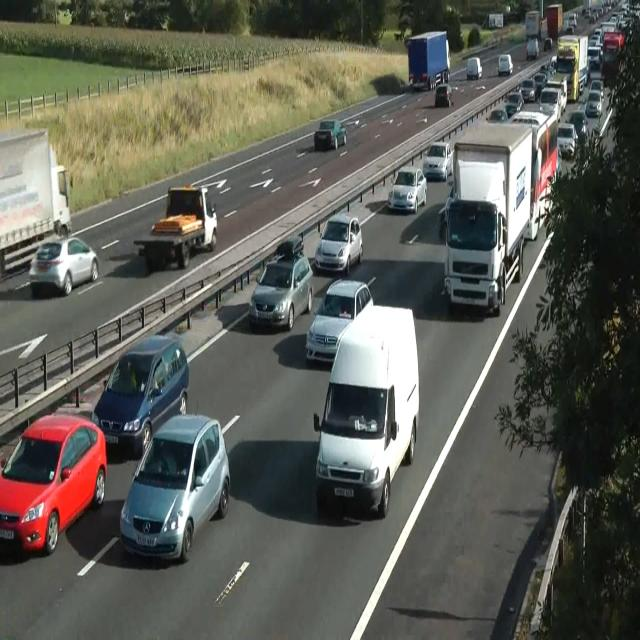bus: (0, 412, 107, 556), (304, 276, 374, 364), (29, 236, 100, 296), (315, 212, 363, 276), (387, 166, 427, 214), (423, 140, 453, 180), (314, 119, 346, 151), (274, 232, 304, 261), (556, 122, 578, 159), (566, 110, 589, 143), (438, 182, 454, 223), (584, 90, 602, 117), (518, 78, 538, 102), (434, 82, 453, 106), (504, 91, 524, 112), (486, 105, 508, 123), (497, 52, 513, 76), (587, 44, 602, 68), (466, 57, 482, 79), (589, 79, 605, 101), (526, 37, 539, 59), (56, 8, 72, 25), (558, 20, 574, 36), (567, 12, 577, 26), (544, 36, 552, 50)
jeep: (312, 303, 420, 517), (119, 412, 231, 562), (92, 333, 190, 457), (248, 252, 314, 331)
minibus: (443, 120, 533, 315), (0, 126, 72, 278), (133, 184, 217, 270), (506, 108, 560, 240), (404, 29, 450, 91), (551, 35, 589, 101), (546, 4, 563, 39), (525, 10, 541, 40), (482, 12, 504, 29)
